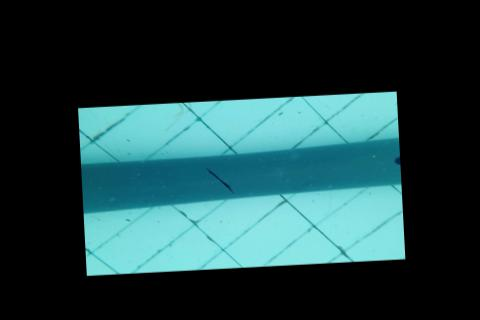kebocoran: (391, 153, 400, 167)
keretakan: (202, 166, 235, 196)
